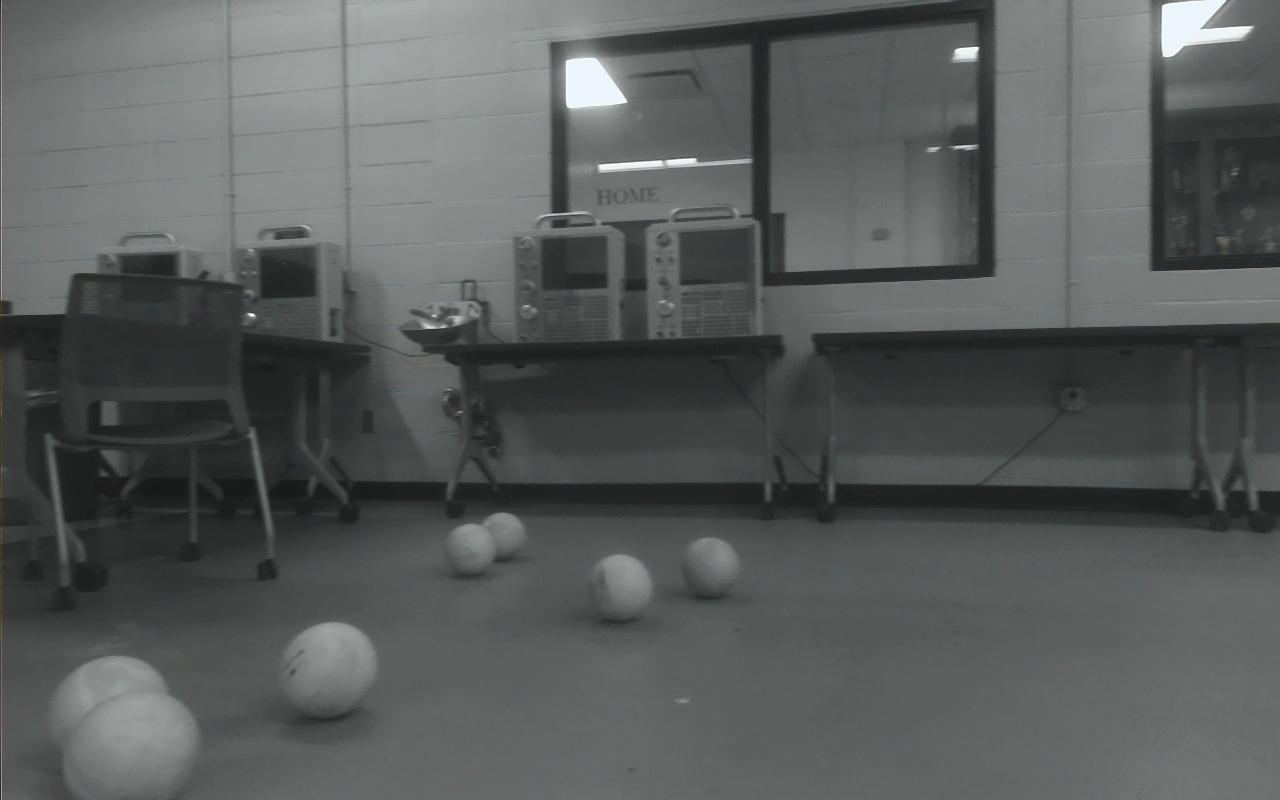Fuel: (61, 688, 200, 800), (47, 654, 172, 759), (278, 620, 380, 720), (589, 554, 654, 622), (680, 536, 741, 599), (443, 522, 498, 578), (481, 511, 527, 561)
